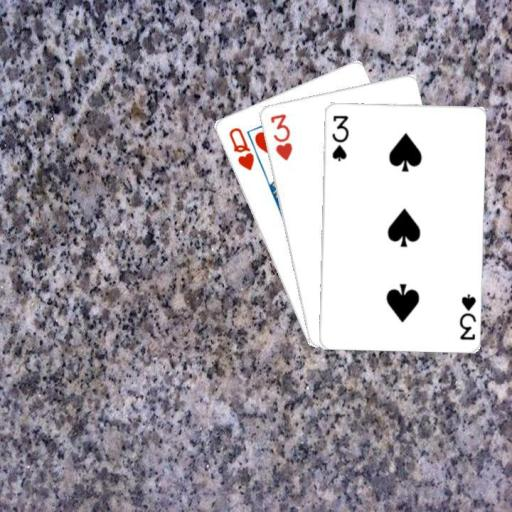3H: (267, 110, 294, 162)
3S: (328, 112, 350, 162), (456, 291, 477, 341)
QH: (225, 124, 255, 172)
